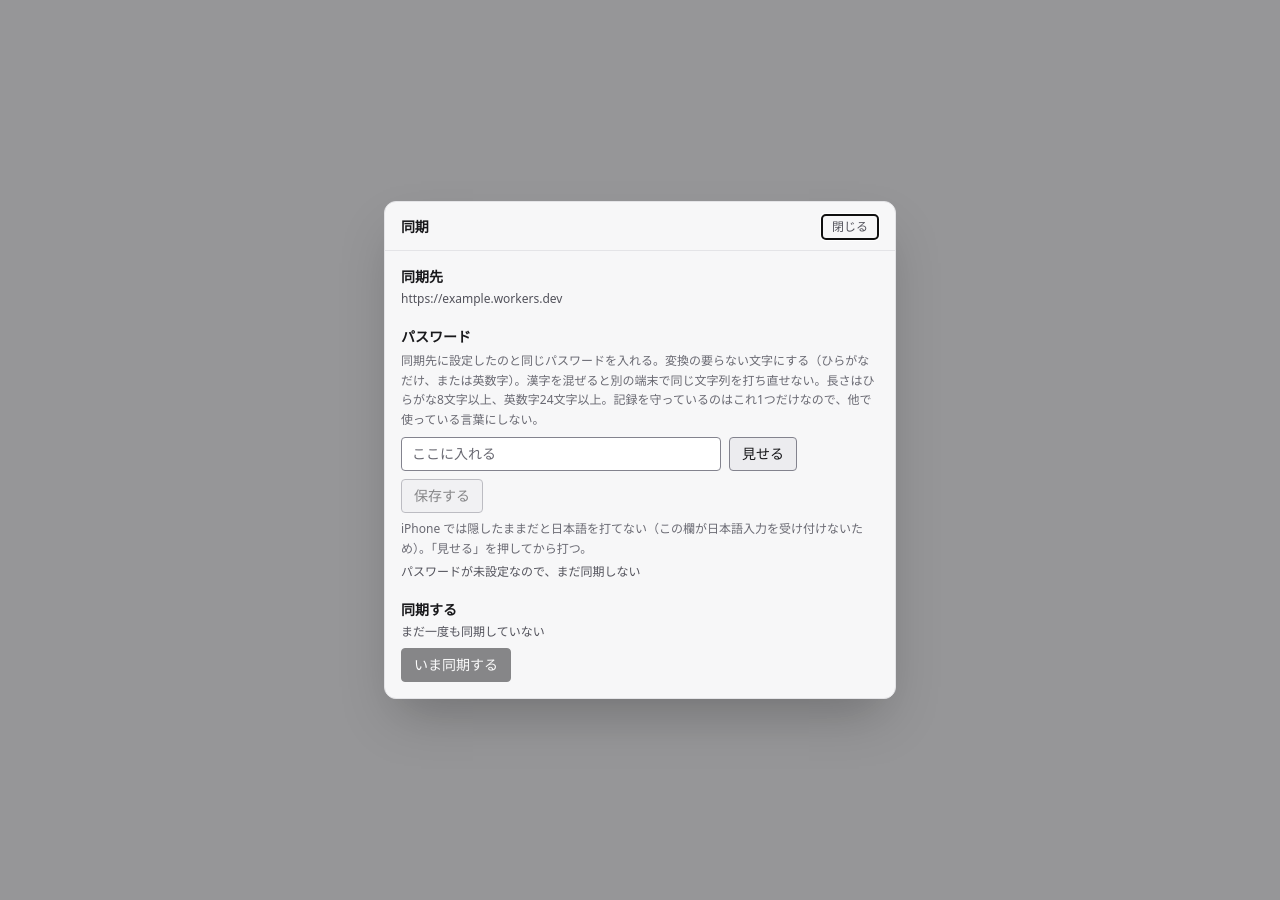
Test: パスワード › 貼り付けて保存すると、保存したことを言う
This screenshot has width=1280, height=900.
Type "kotobawo-yonkosanarabeta" into the password field named "同期のパスワード" at point(561, 454), box [401,437,721,471]
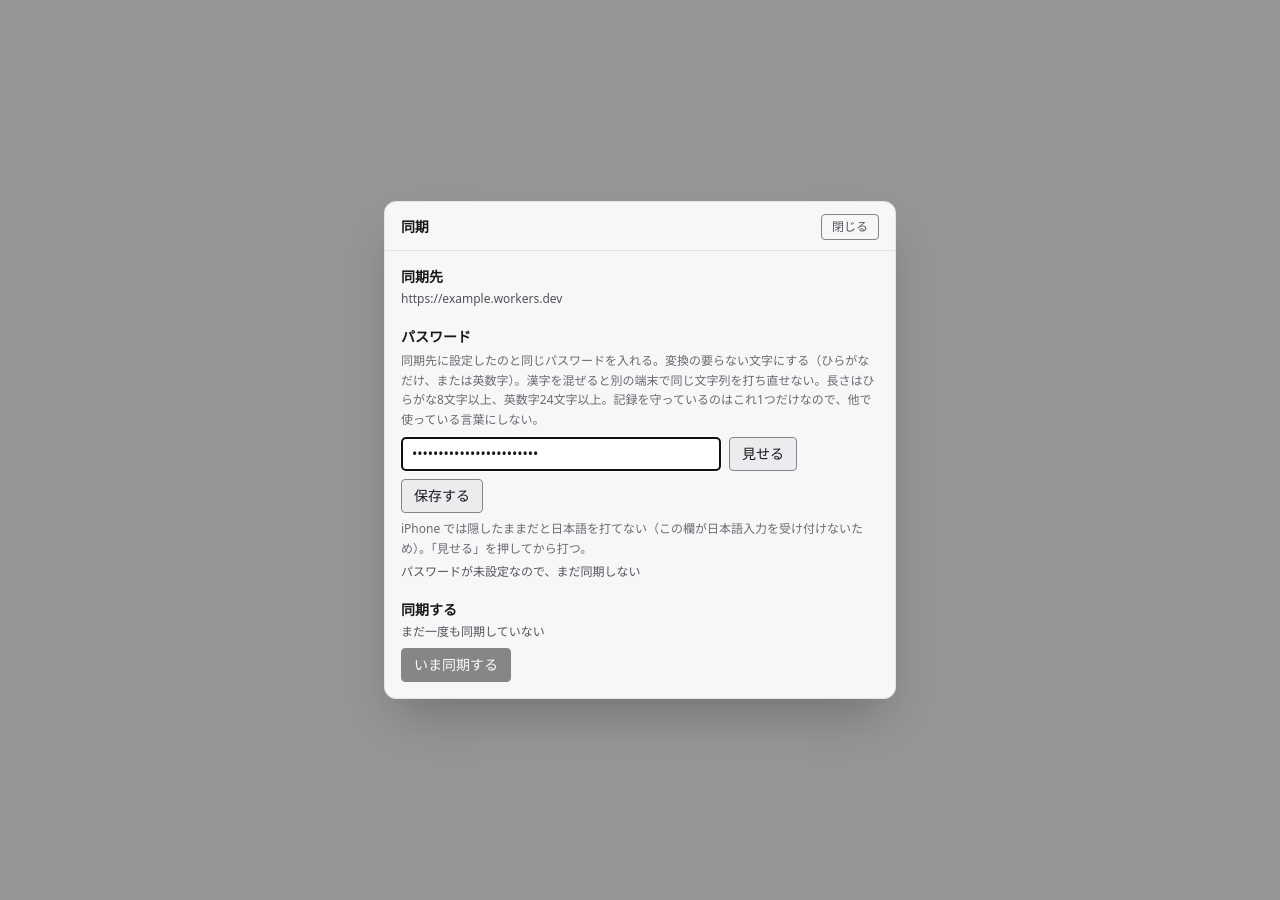
Click the button "保存する" at point(442, 496), box [401,479,483,513]
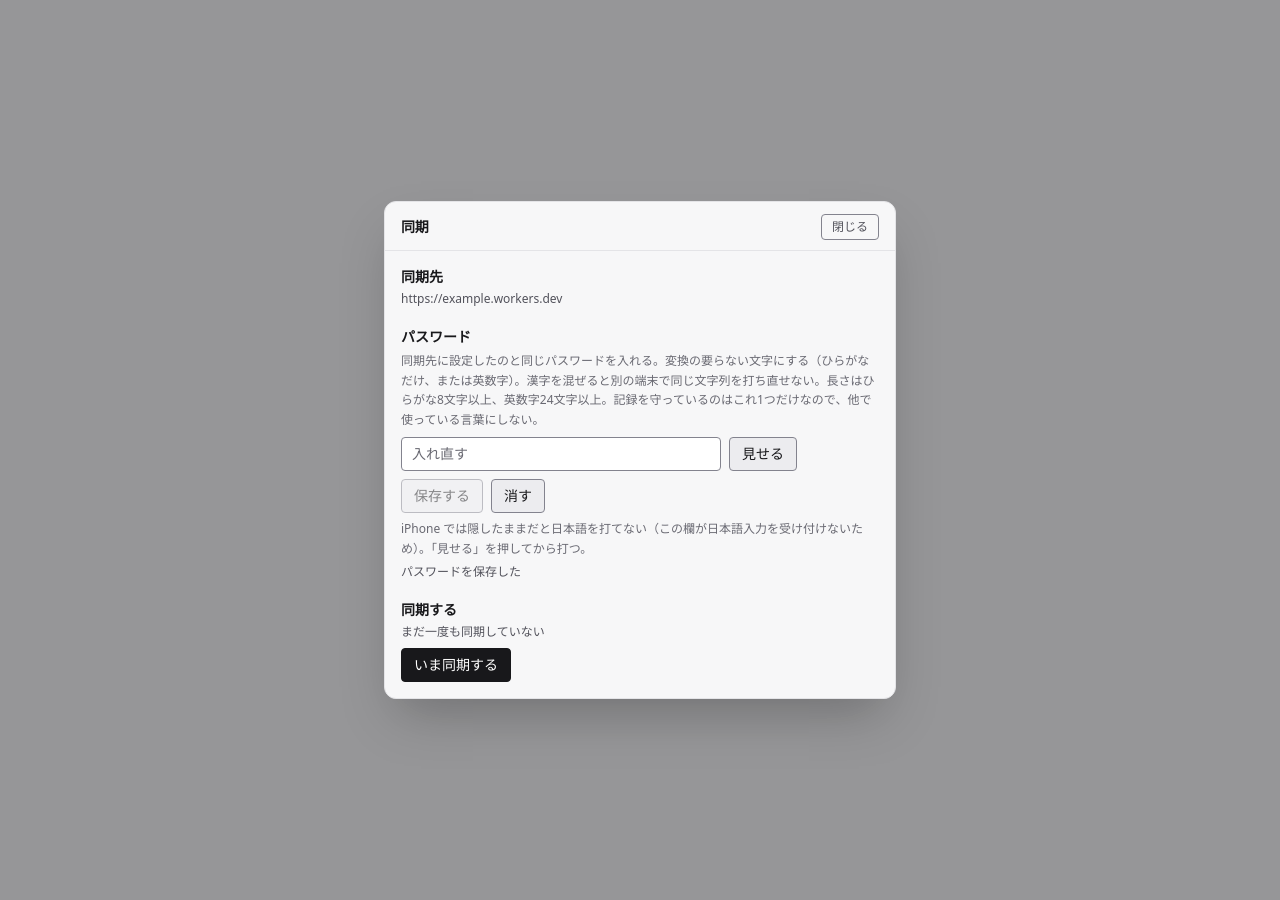
expect the text "パスワードを保存した" is shown: met, box [401,563,521,580]
